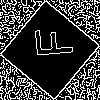F: (25, 25, 74, 60)
